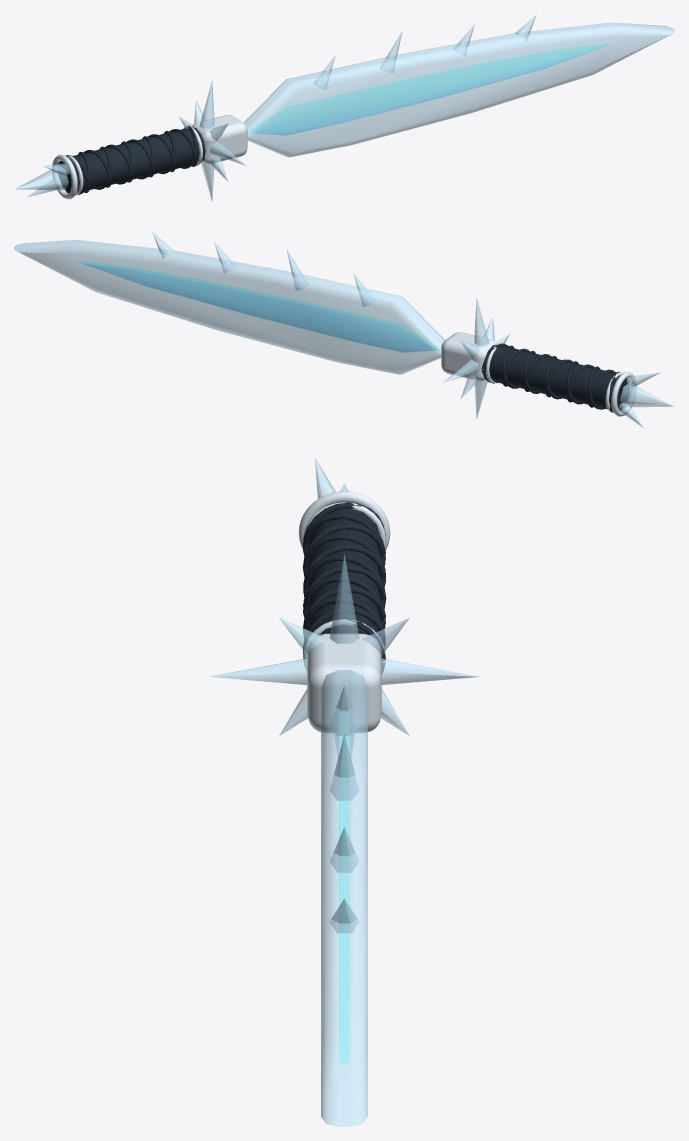
The model's file is frost-fang.glb.
3 views of the same model, one above another, from view 1: azimuth 30°, elevation 25°; view 2: azimuth 150°, elevation 25°; view 3: azimuth 270°, elevation 25° (orthographic). The views are drawn at different scales.
Visible parts, largest first — view 1: 06_Refract_Blade__body_Sculpt_crystal_ice, 06_Refract_Blade__body_Sculpt_glow, 06_Refract_Blade__body_Sculpt_grip, 06_Refract_Blade__body_Sculpt_metal; view 2: 06_Refract_Blade__body_Sculpt_crystal_ice, 06_Refract_Blade__body_Sculpt_glow, 06_Refract_Blade__body_Sculpt_grip, 06_Refract_Blade__body_Sculpt_metal; view 3: 06_Refract_Blade__body_Sculpt_crystal_ice, 06_Refract_Blade__body_Sculpt_grip, 06_Refract_Blade__body_Sculpt_metal, 06_Refract_Blade__body_Sculpt_glow.
Part boxes in pixels (bbox=[...]): 06_Refract_Blade__body_Sculpt_crystal_ice: bbox=[15, 14, 674, 201]; 06_Refract_Blade__body_Sculpt_glow: bbox=[248, 44, 608, 135]; 06_Refract_Blade__body_Sculpt_grip: bbox=[58, 125, 205, 194]; 06_Refract_Blade__body_Sculpt_metal: bbox=[52, 115, 247, 199]; 06_Refract_Blade__body_Sculpt_crystal_ice: bbox=[14, 232, 673, 427]; 06_Refract_Blade__body_Sculpt_glow: bbox=[80, 261, 440, 352]; 06_Refract_Blade__body_Sculpt_grip: bbox=[481, 343, 629, 412]; 06_Refract_Blade__body_Sculpt_metal: bbox=[441, 332, 636, 416]; 06_Refract_Blade__body_Sculpt_crystal_ice: bbox=[209, 458, 479, 1126]; 06_Refract_Blade__body_Sculpt_grip: bbox=[302, 502, 386, 673]; 06_Refract_Blade__body_Sculpt_metal: bbox=[298, 491, 390, 732]; 06_Refract_Blade__body_Sculpt_glow: bbox=[339, 736, 349, 1062].
Bounding box in the file's own units: 2.46 × 0.45 × 0.44.
